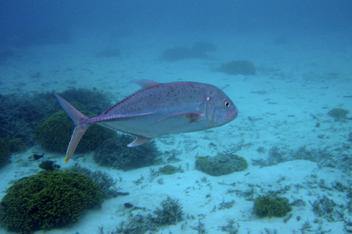Carangidae -Jacks-: (55, 72, 245, 166)
